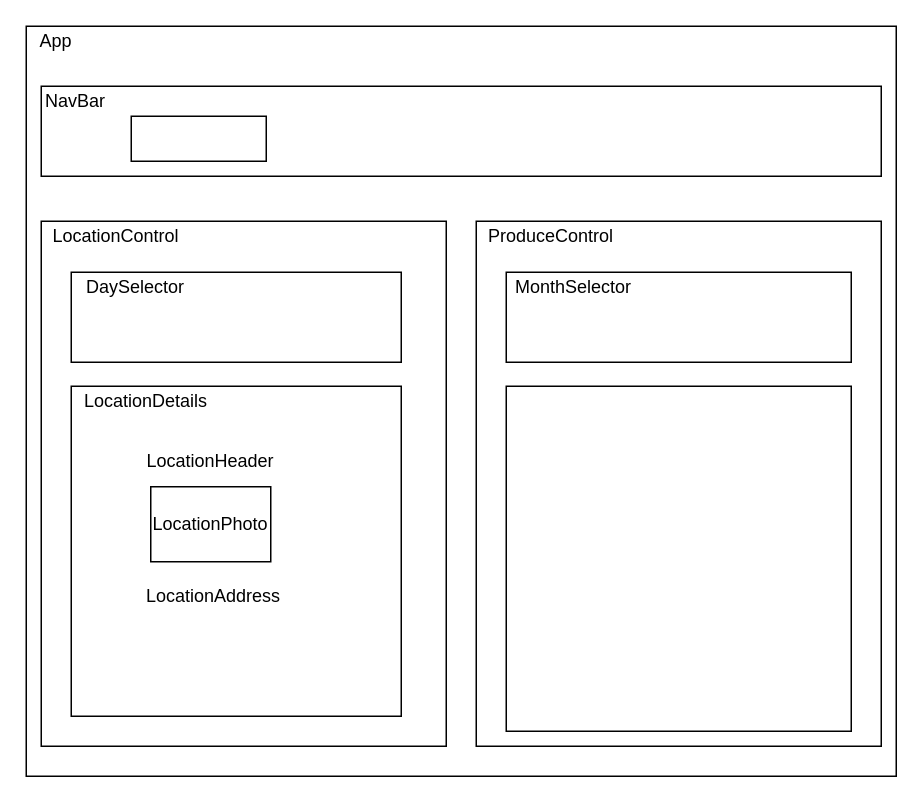
Some shapes in this 923 by 803 pixel diagram are drawn without their labels. The centre of each missing label's shape, as x and y in pixels:
"HomeButton" belongs at point 198,138.
"ProduceList" belongs at point 678,558.
